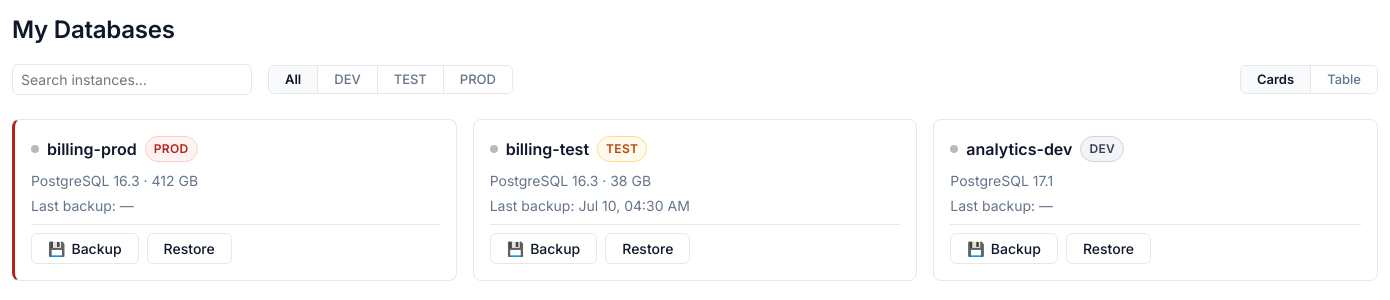
Test case: toggles to the fleet table (no bulk-action checkboxes)
The width and height of the screenshot is (1390, 300).
Expected: the text "billing-prod" is shown, x1=47 y1=137 x2=137 y2=161
Click the button "Table": (1344, 80) x1=1310 y1=66 x2=1377 y2=93
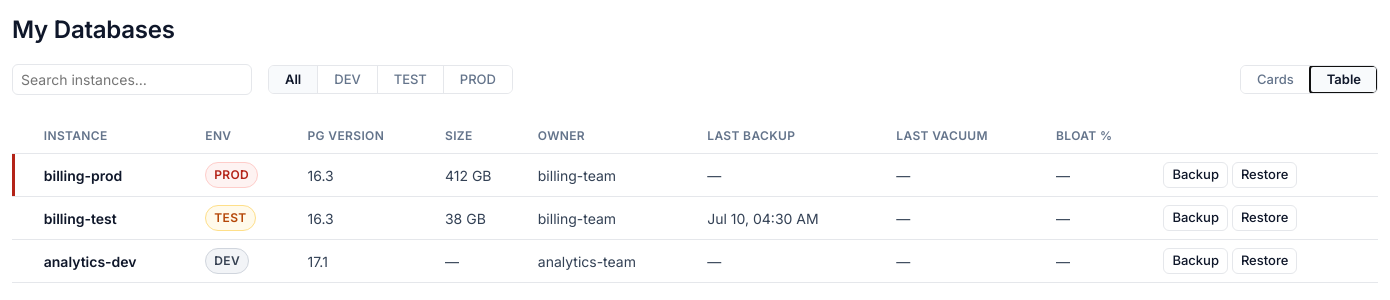
Expected: the column heading "Instance" is shown, x1=36 y1=119 x2=197 y2=154
Expected: the column heading "Env" is shown, x1=197 y1=119 x2=300 y2=154
Expected: the column heading "PG version" is shown, x1=300 y1=119 x2=437 y2=154
